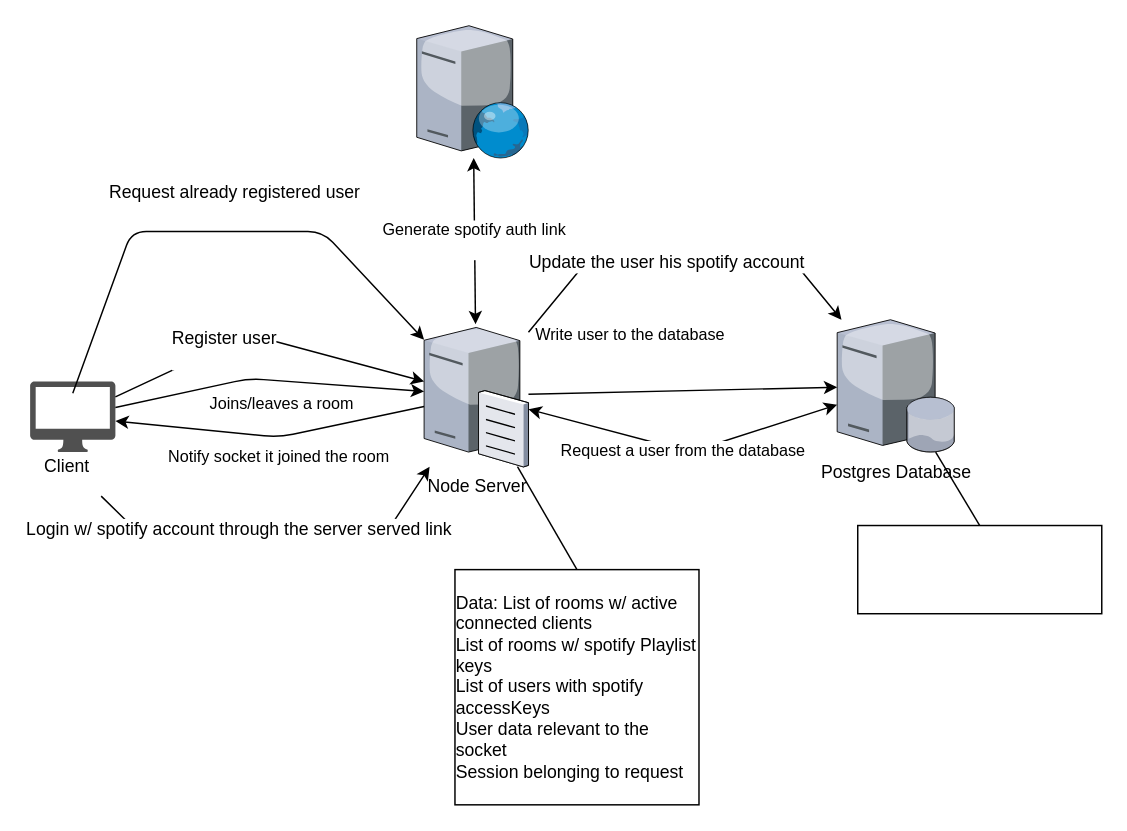
This 1127x831 diagram has some shape labels left out. Each missing label, with the centre of its shape:
"Spotify Server" goes at point (472, 91).
"User: Username, Color, current room & accesskey" goes at point (979, 569).
